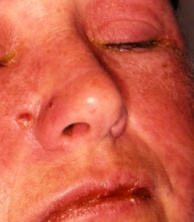SJS-TEN: (32, 179, 155, 222)
